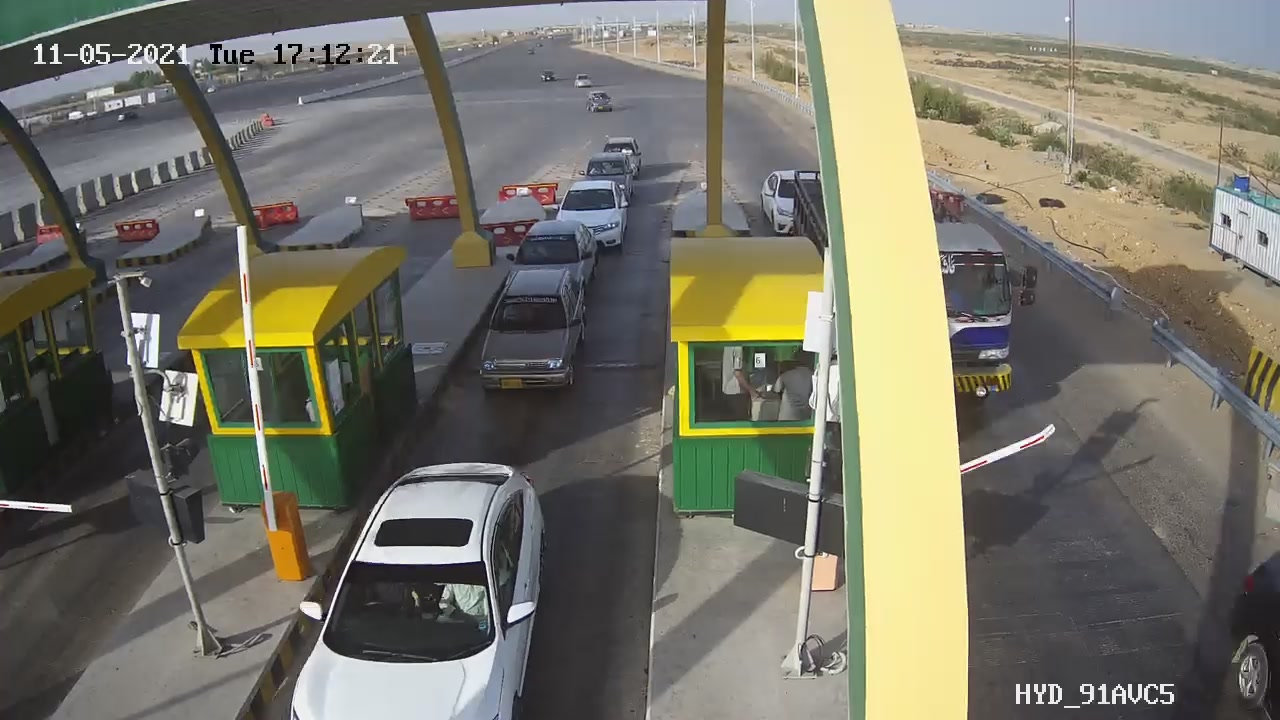F1: (464, 260, 609, 408)
